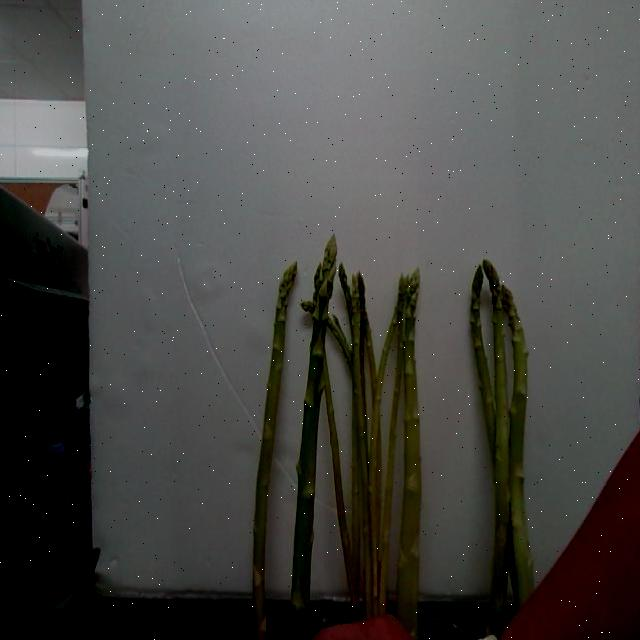aspargus: (293, 235, 338, 640), (250, 264, 297, 640), (396, 269, 422, 639)
